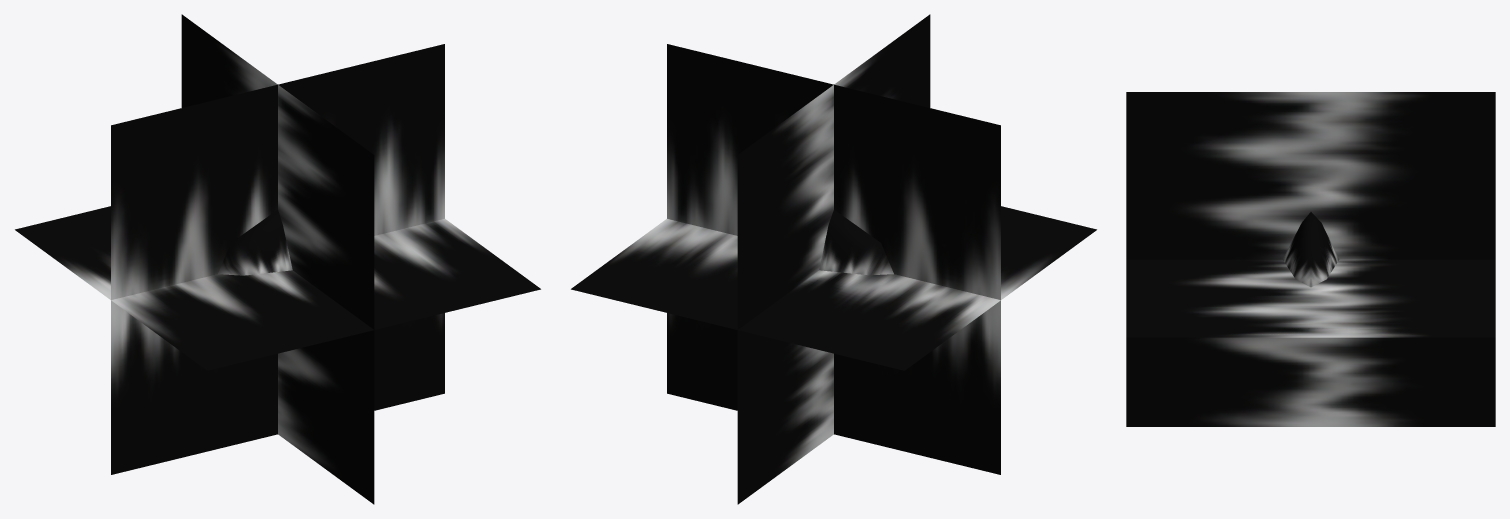
File: datan_common_sp_red_a44759f3.obj
The picture shows the model from 3 angles, left to right: view 1: azimuth 30°, elevation 25°; view 2: azimuth 150°, elevation 25°; view 3: azimuth 270°, elevation 25°; orthographic projection. The views are drawn at different scales.
Parts seen in each view (by area): view 1: datan_common_sp_red_a44759f3_mesh01, datan_common_sp_red_a44759f3_mesh00; view 2: datan_common_sp_red_a44759f3_mesh01, datan_common_sp_red_a44759f3_mesh00; view 3: datan_common_sp_red_a44759f3_mesh01, datan_common_sp_red_a44759f3_mesh00.
Boxes of the visible parts, box(x1,y1,x2,y2) form: datan_common_sp_red_a44759f3_mesh01: box(15, 14, 540, 504); datan_common_sp_red_a44759f3_mesh00: box(218, 210, 292, 275); datan_common_sp_red_a44759f3_mesh01: box(571, 14, 1096, 504); datan_common_sp_red_a44759f3_mesh00: box(819, 210, 893, 275); datan_common_sp_red_a44759f3_mesh01: box(1126, 92, 1495, 426); datan_common_sp_red_a44759f3_mesh00: box(1282, 212, 1339, 287).
Bounding box in the file's own units: 4.85 × 4.85 × 4.85.
Materials: 1 (1 with a texture image).
